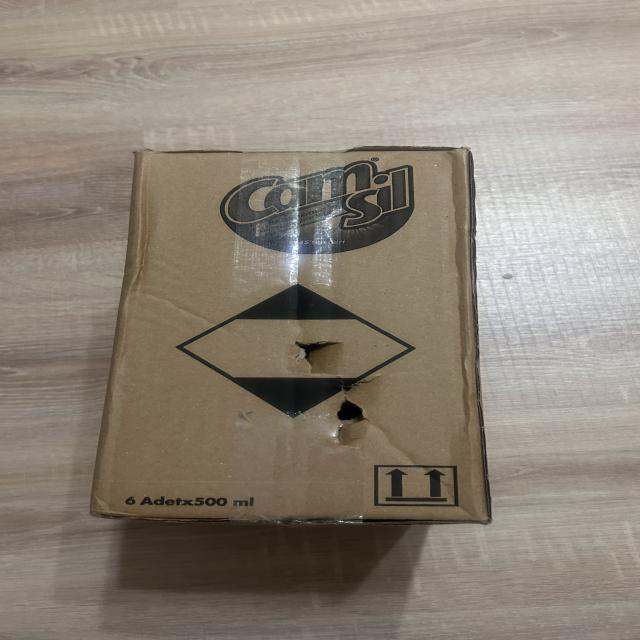damaged: (84, 143, 514, 536), (282, 328, 352, 384), (319, 397, 385, 444)
